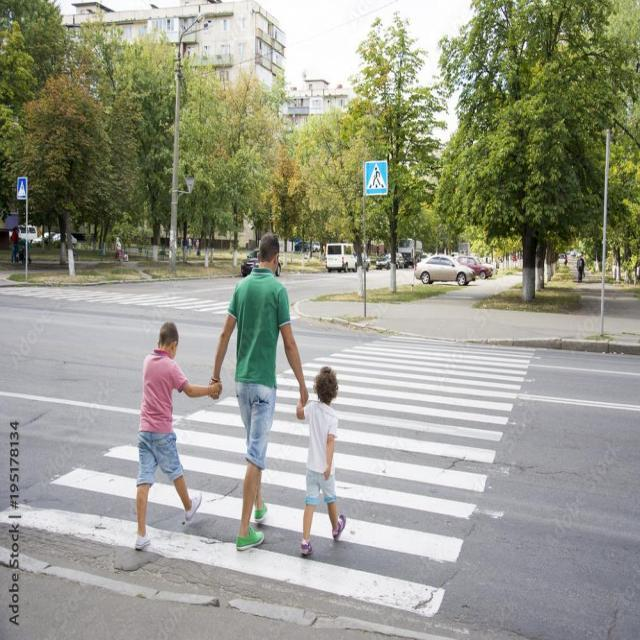person: (208, 217, 309, 562), (129, 312, 221, 546), (295, 367, 351, 552)
